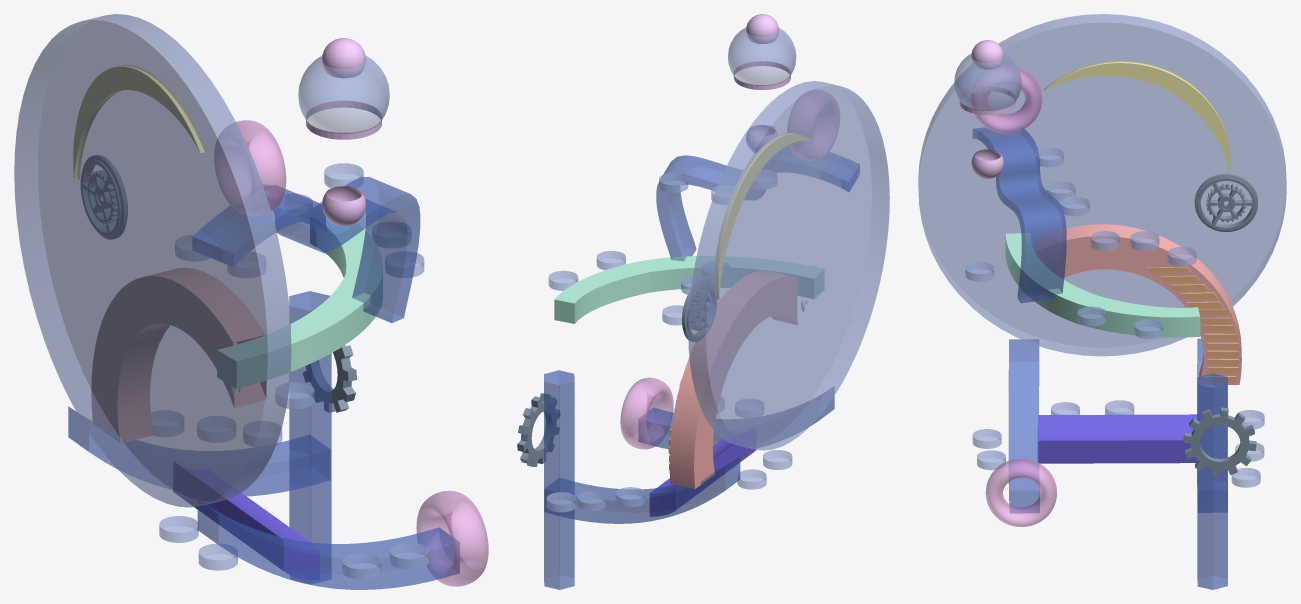
3 views of the same model, side by side, from view 1: azimuth 30°, elevation 25°; view 2: azimuth 150°, elevation 25°; view 3: azimuth 270°, elevation 25° (orthographic). The views are drawn at different scales.
Parts seen in each view (by area): view 1: 物件_5.001, 立方体.004, 物件_10.001, 物件_11.012, 物件_7.010, 物件_1.002, gear38_gears_0.006, gear13_gears_0.002, 柱体.019, 柱体.020, 柱体.005, 柱体.006 (+8 smaller); view 2: 物件_5.001, 立方体.004, 物件_11.012, 物件_7.010, 物件_10.001, 物件_1.002, gear13_gears_0.002, gear38_gears_0.006, 柱体.016, 柱体.007, 柱体.002, 柱体.022 (+4 smaller); view 3: 物件_5.001, 立方体.004, 物件_10.001, 物件_1.002, 物件_11.012, 物件_7.010, gear13_gears_0.002, gear38_gears_0.006, 柱体.017, 柱体.004, 柱体.018, 柱体.025 (+8 smaller).
Boxes of the visible parts, <box> form: 物件_5.001: <box>14,14,488,589</box>; 立方体.004: <box>91,268,266,442</box>; 物件_10.001: <box>192,177,420,322</box>; 物件_11.012: <box>217,218,382,388</box>; 物件_7.010: <box>289,291,331,583</box>; 物件_1.002: <box>173,462,319,579</box>; gear38_gears_0.006: <box>81,155,127,239</box>; gear13_gears_0.002: <box>303,345,356,412</box>; 柱体.019: <box>389,542,428,569</box>; 柱体.020: <box>342,552,381,579</box>; 柱体.005: <box>159,516,198,542</box>; 柱体.006: <box>198,543,237,570</box>; 物件_5.001: <box>544,14,889,523</box>; 立方体.004: <box>668,271,797,488</box>; 物件_11.012: <box>554,256,824,323</box>; 物件_7.010: <box>544,370,574,589</box>; 物件_10.001: <box>656,146,859,260</box>; 物件_1.002: <box>649,428,755,516</box>; gear13_gears_0.002: <box>517,393,560,466</box>; gear38_gears_0.006: <box>682,279,716,341</box>; 柱体.016: <box>615,487,645,507</box>; 柱体.007: <box>546,492,575,512</box>; 柱体.002: <box>577,491,606,511</box>; 柱体.022: <box>659,172,688,192</box>; 物件_5.001: <box>918,14,1286,526</box>; 立方体.004: <box>1035,224,1241,384</box>; 物件_10.001: <box>973,127,1066,303</box>; 物件_1.002: <box>1037,414,1198,463</box>; 物件_11.012: <box>1005,233,1200,337</box>; 物件_7.010: <box>1197,373,1227,589</box>; gear13_gears_0.002: <box>1183,407,1256,476</box>; gear38_gears_0.006: <box>1194,173,1257,231</box>; 柱体.017: <box>1077,306,1106,326</box>; 柱体.004: <box>1167,246,1196,266</box>; 柱体.018: <box>1134,319,1163,338</box>; 柱体.025: <box>1090,231,1119,250</box>.
Bounding box in the file's own units: 2061 × 4320 × 2896.
